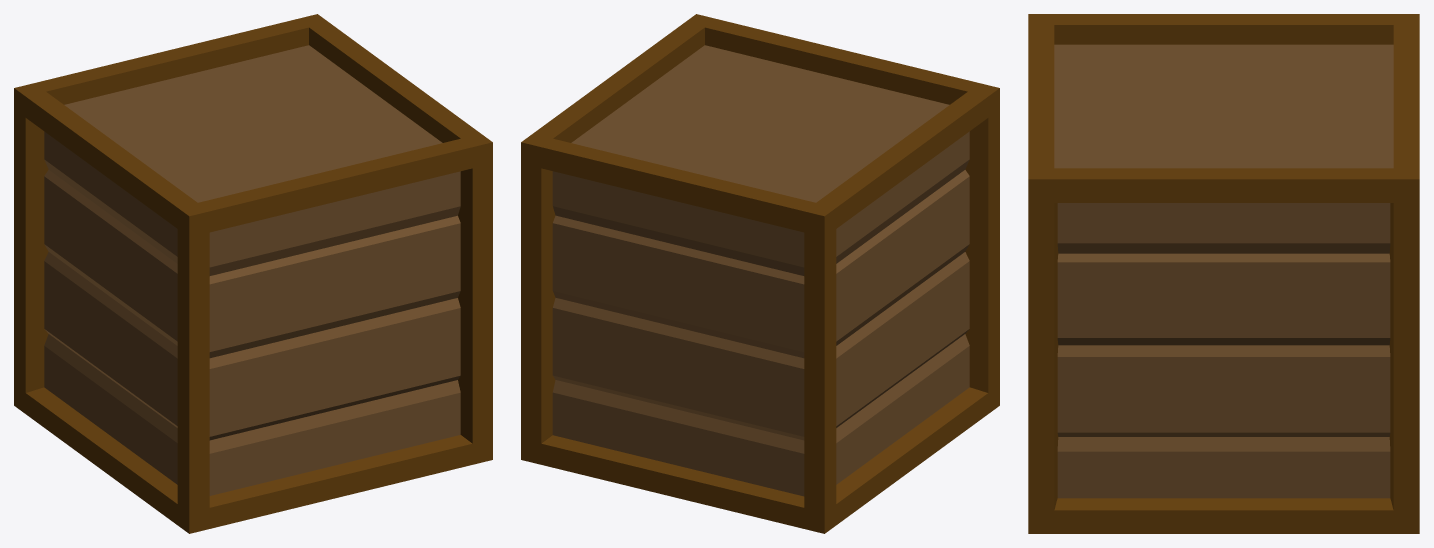
The model's file is Crate.fbx.
The picture shows the model from 3 angles, left to right: view 1: azimuth 30°, elevation 25°; view 2: azimuth 150°, elevation 25°; view 3: azimuth 270°, elevation 25°; orthographic projection. The views are drawn at different scales.
Visible parts, largest first — view 1: Inner, Outer; view 2: Inner, Outer; view 3: Inner, Outer.
Part boxes in pixels (x1,y1,x2,y2): Inner: [44, 45, 460, 495]; Outer: [14, 14, 492, 533]; Inner: [552, 45, 969, 496]; Outer: [521, 14, 999, 533]; Inner: [1054, 44, 1393, 498]; Outer: [1028, 14, 1419, 533].
Size of the model in its own units: 225 by 225 by 225.
